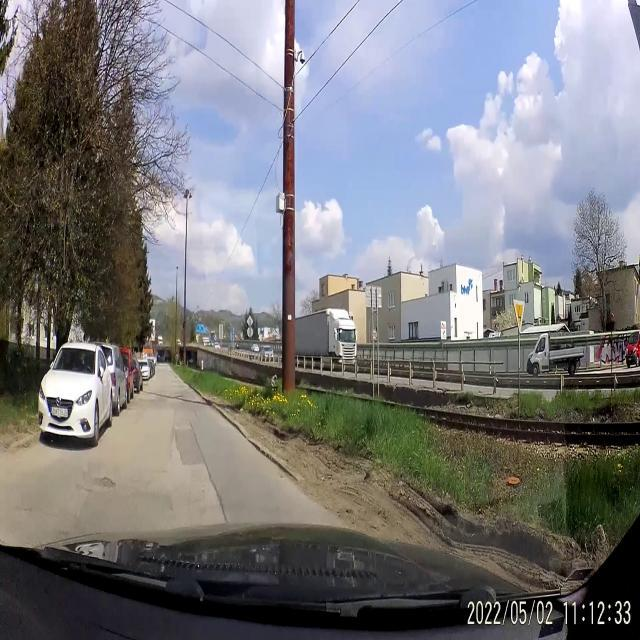Pothole: (90, 470, 118, 492)
